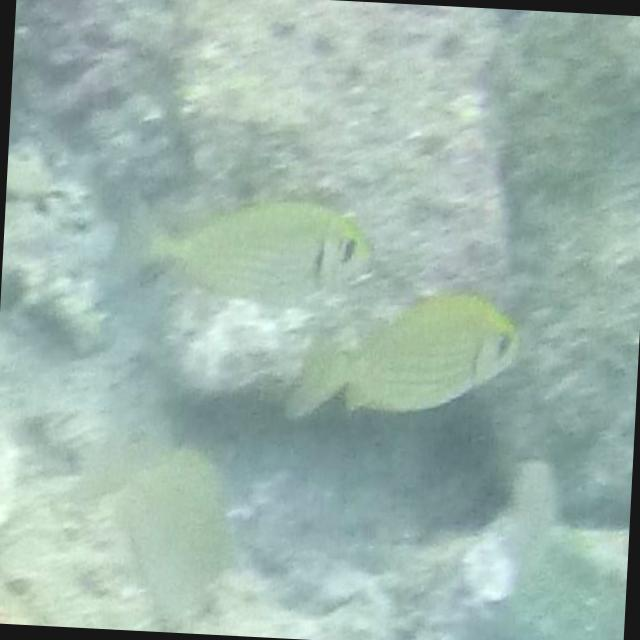Sokar Baligi: (286, 276, 534, 444), (99, 180, 383, 318)
